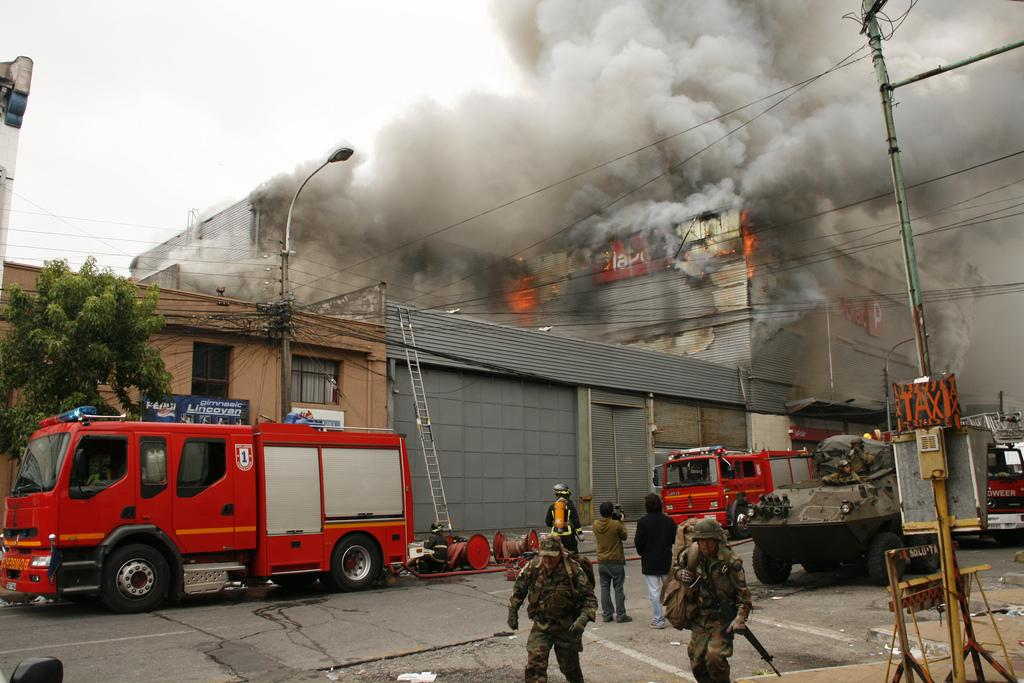fire: (603, 240, 655, 295), (500, 265, 538, 312), (743, 217, 755, 275)
smoke: (590, 12, 802, 190), (360, 153, 555, 250)
